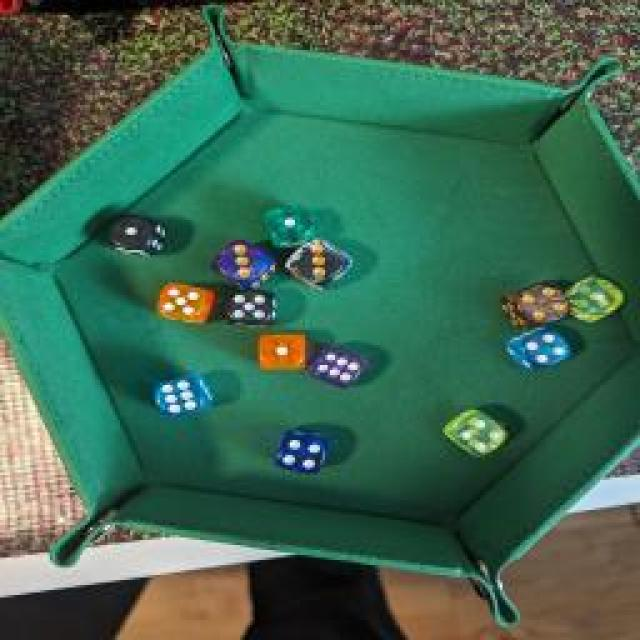dice_1: (565, 270, 627, 328), (256, 200, 322, 248), (252, 325, 312, 375), (105, 212, 167, 260)
dice_3: (205, 236, 285, 292), (282, 232, 362, 288)
dice_4: (501, 280, 569, 332), (501, 324, 571, 374), (441, 405, 509, 455), (270, 426, 332, 474)
dice_5: (150, 276, 218, 324), (222, 289, 278, 326)
dice_6: (310, 348, 372, 390), (154, 374, 214, 416)
